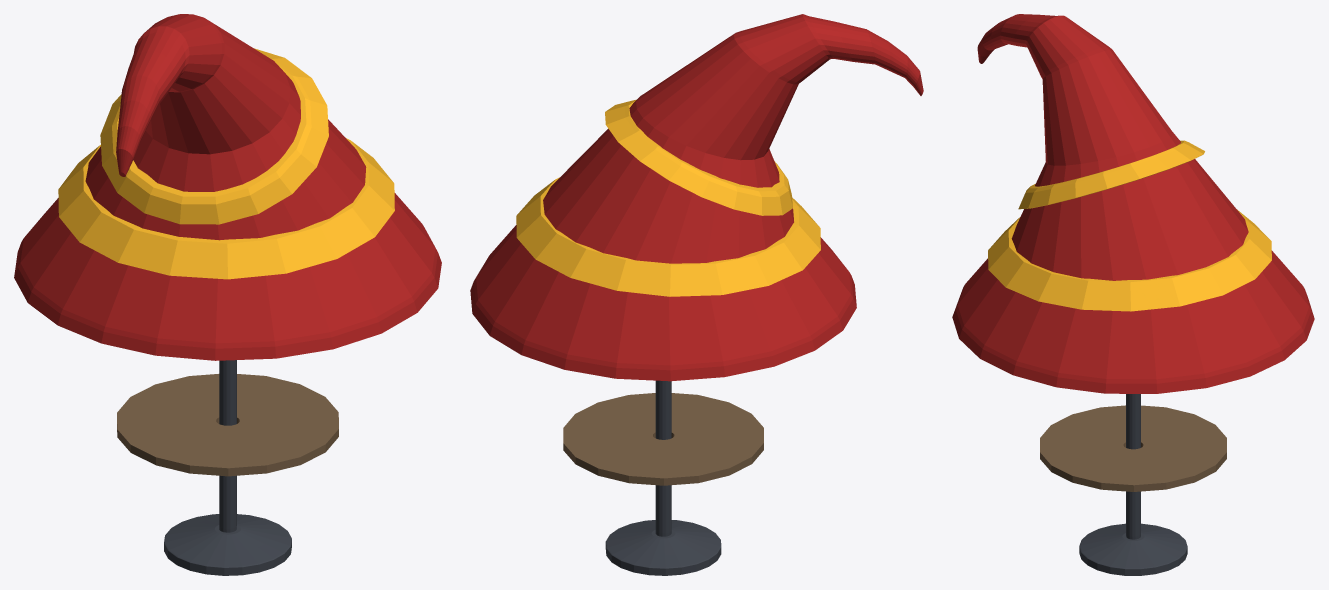
Rendered from WazardTable_Red.fbx.
3 renders of one model, left to right at view 1: azimuth 30°, elevation 25°; view 2: azimuth 150°, elevation 25°; view 3: azimuth 270°, elevation 25°, orthographic. The views are drawn at different scales.
Visible parts, largest first — view 1: WazardTable_Red; view 2: WazardTable_Red; view 3: WazardTable_Red.
Boxes of the visible parts, x1,y1,x2,y2 form: WazardTable_Red: [14, 14, 441, 575]; WazardTable_Red: [470, 14, 923, 575]; WazardTable_Red: [952, 14, 1314, 575].
Size of the model in its own units: 520 by 758 by 506.
